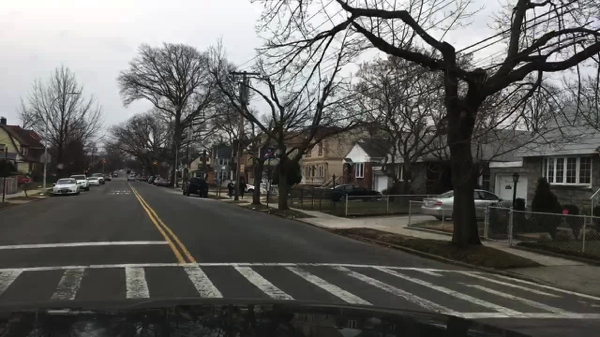car: (420, 188, 513, 220), (324, 184, 386, 203), (52, 178, 79, 196), (183, 178, 209, 196), (7, 174, 32, 187), (70, 175, 89, 192), (239, 184, 268, 194), (92, 173, 105, 184), (87, 176, 99, 186), (149, 176, 160, 184), (158, 178, 169, 186), (153, 177, 162, 185), (103, 174, 111, 181), (127, 175, 136, 181), (140, 175, 147, 182), (136, 173, 142, 180), (126, 167, 131, 175), (149, 175, 152, 182), (113, 172, 118, 176)
person: (238, 175, 247, 198), (227, 178, 234, 198)
traffic light: (103, 158, 106, 163), (153, 160, 156, 165), (156, 159, 158, 165)
traffic sign: (265, 146, 274, 160), (40, 153, 52, 163)
